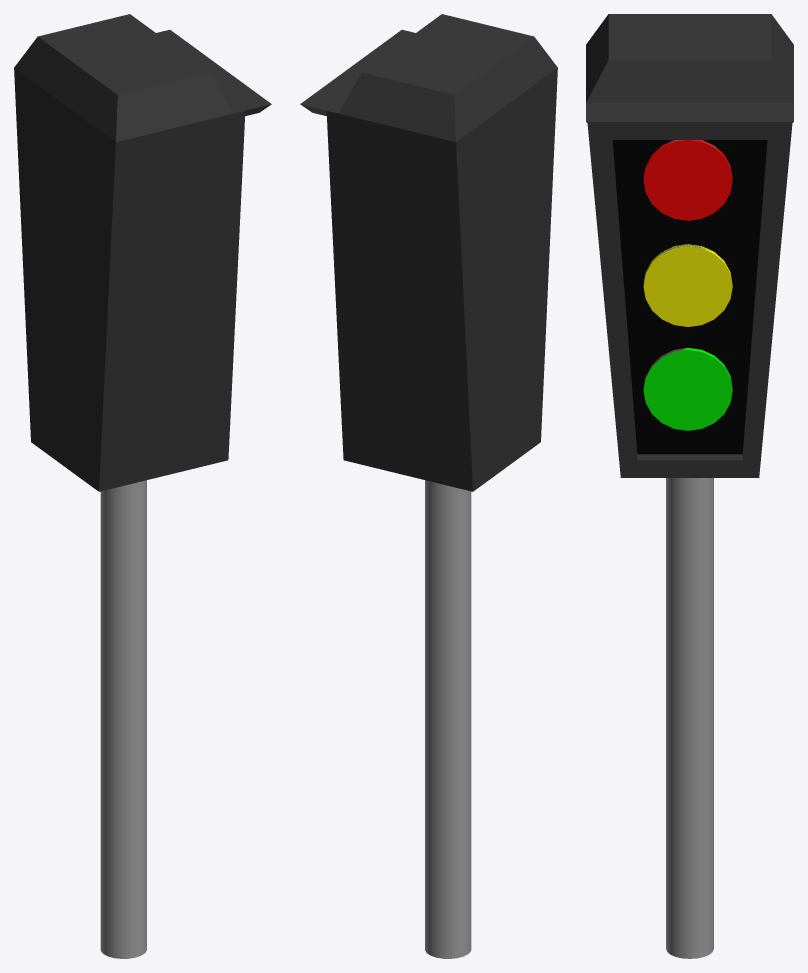
File: TrafficLights.fbx
The picture shows the model from 3 angles, left to right: view 1: azimuth 30°, elevation 25°; view 2: azimuth 150°, elevation 25°; view 3: azimuth 270°, elevation 25°; orthographic projection.
Parts seen in each view (by area): view 1: pCube1, pCylinder1; view 2: pCube1, pCylinder1; view 3: pCube1, pCylinder1, Yel, Red, Green.
Boxes of the visible parts, x1,y1,x2,y2 form: pCube1: (14, 14, 271, 491); pCylinder1: (100, 480, 146, 958); pCube1: (300, 14, 557, 491); pCylinder1: (425, 480, 471, 958); pCube1: (586, 14, 793, 477); pCylinder1: (666, 478, 713, 958); Yel: (643, 244, 732, 326); Red: (643, 140, 732, 220); Green: (643, 348, 732, 430).
Size of the model in its own units: 1.33 by 7.27 by 1.5.
